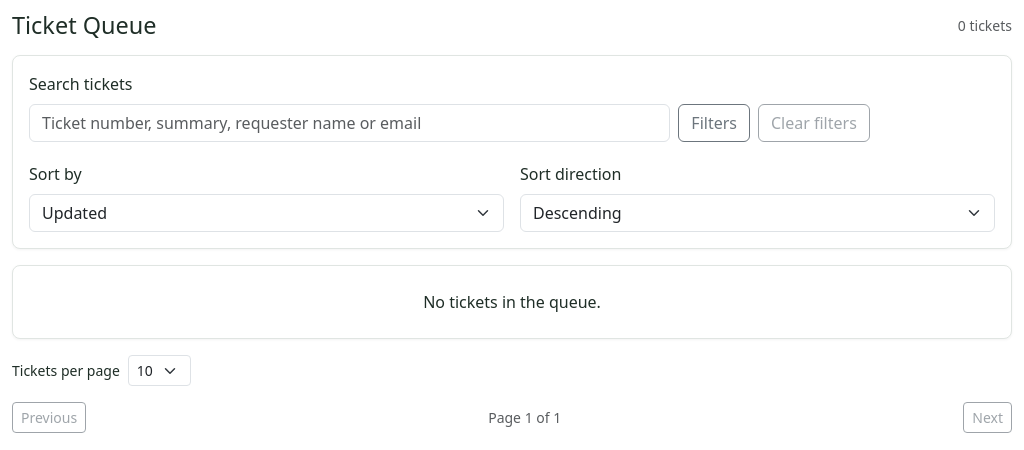
Staff Ticket Queue (UI-06) › distinguishes empty queue from no matching results
The image size is (1024, 450).
Expected: the text "No tickets in the queue." is shown, [12,265,1012,339]
Step 1. Type "absent" into the search field labelled "Search tickets" → {"x": 350, "y": 123}, box [29,104,670,142]
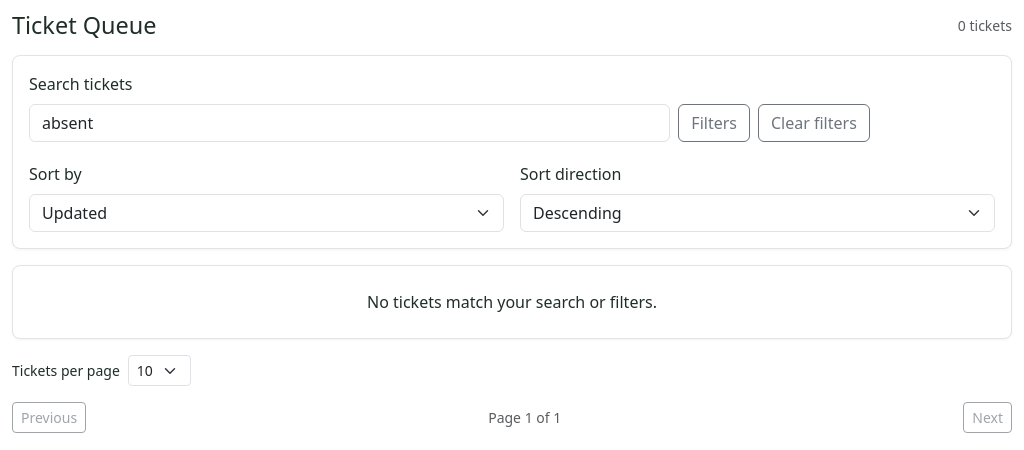
Expected: the button "Next" is disabled, [963,402,1012,433]
Expected: the text "No tickets match your search or filters." is shown, [12,265,1012,339]
